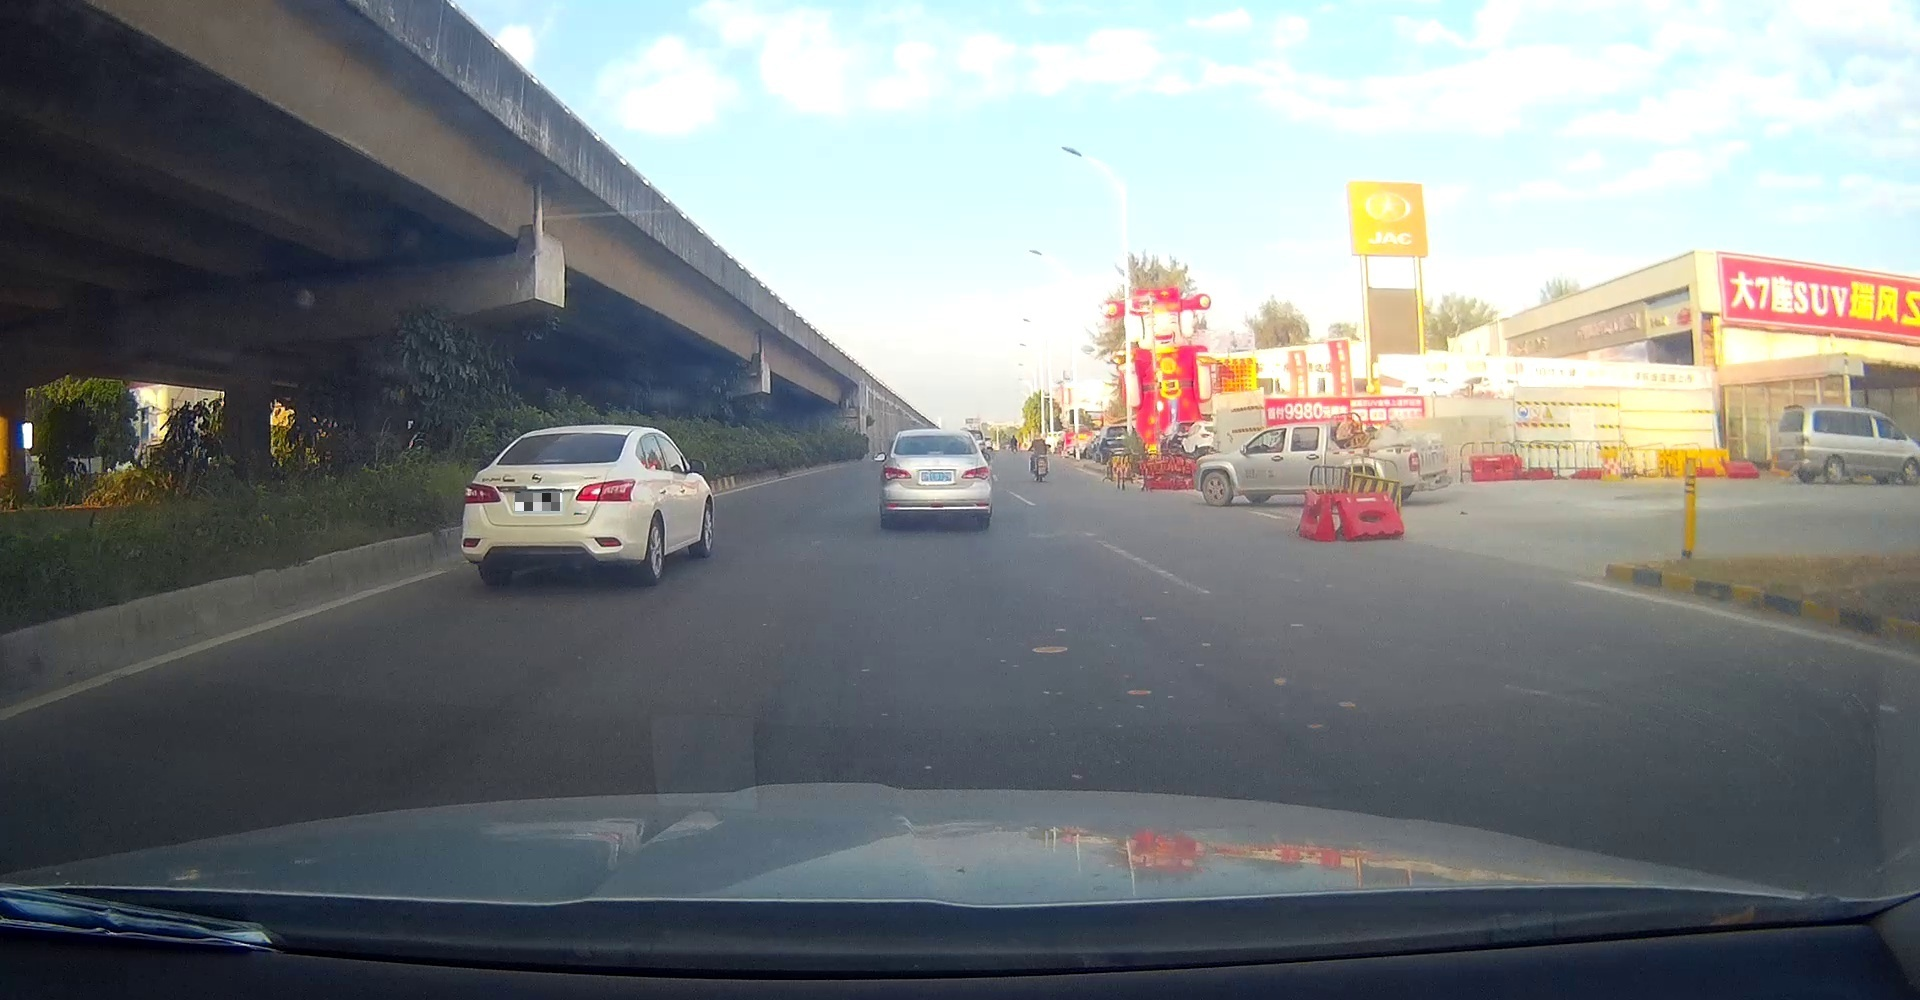L_light: (463, 484, 502, 503), (881, 467, 910, 480)
R_light: (577, 478, 635, 501), (961, 466, 989, 478)
T_light: (537, 458, 566, 463), (927, 451, 943, 456)
day-no: (463, 425, 637, 585), (881, 429, 992, 528)
plate_1: (516, 492, 563, 511)
